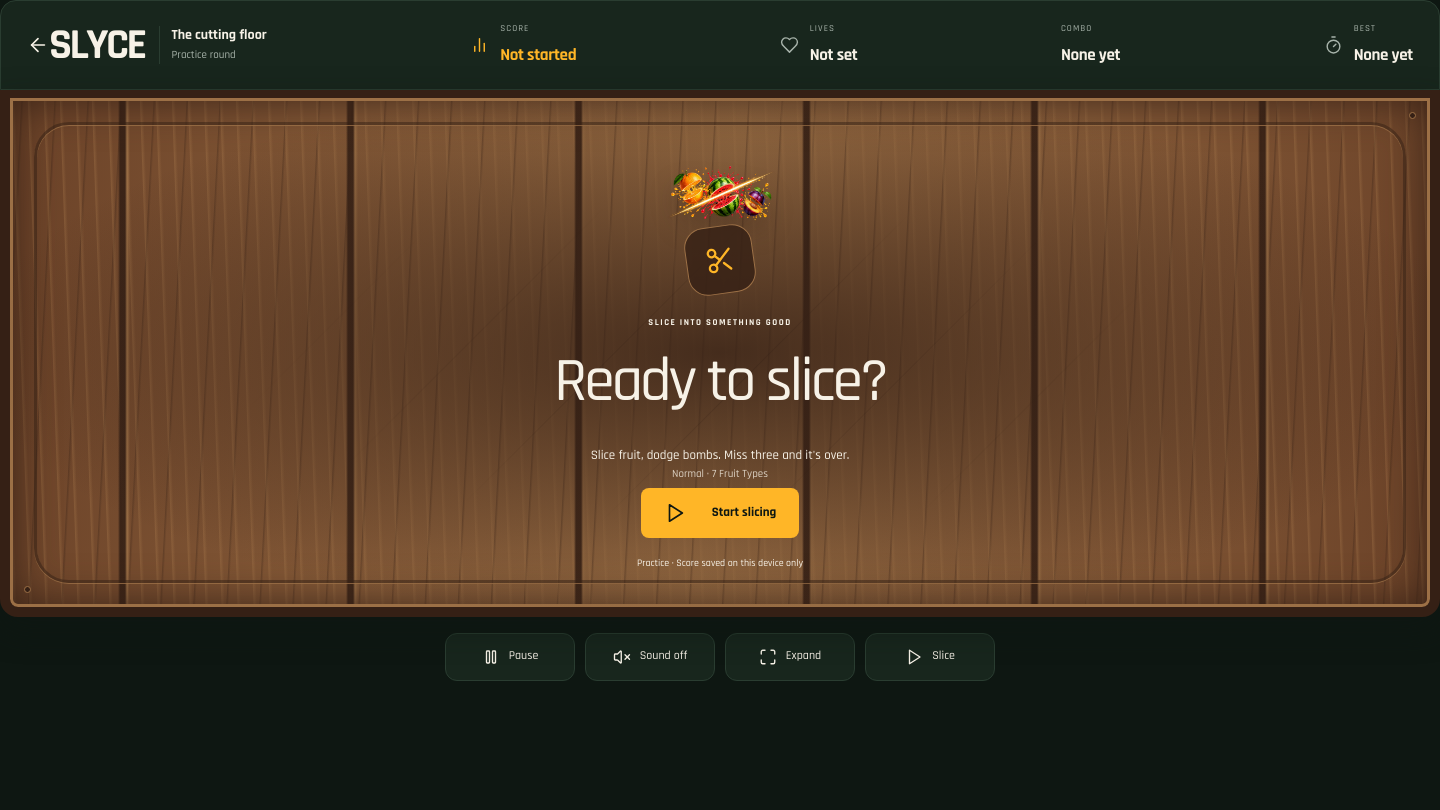
shows combos, game over and a device-local best, then restarts
The width and height of the screenshot is (1440, 810).
What coordinates should you click on to do the following:
click the button with aria-label "Start practice round"
I would click on:
 (720, 513)
Its box is [641,488,799,538].
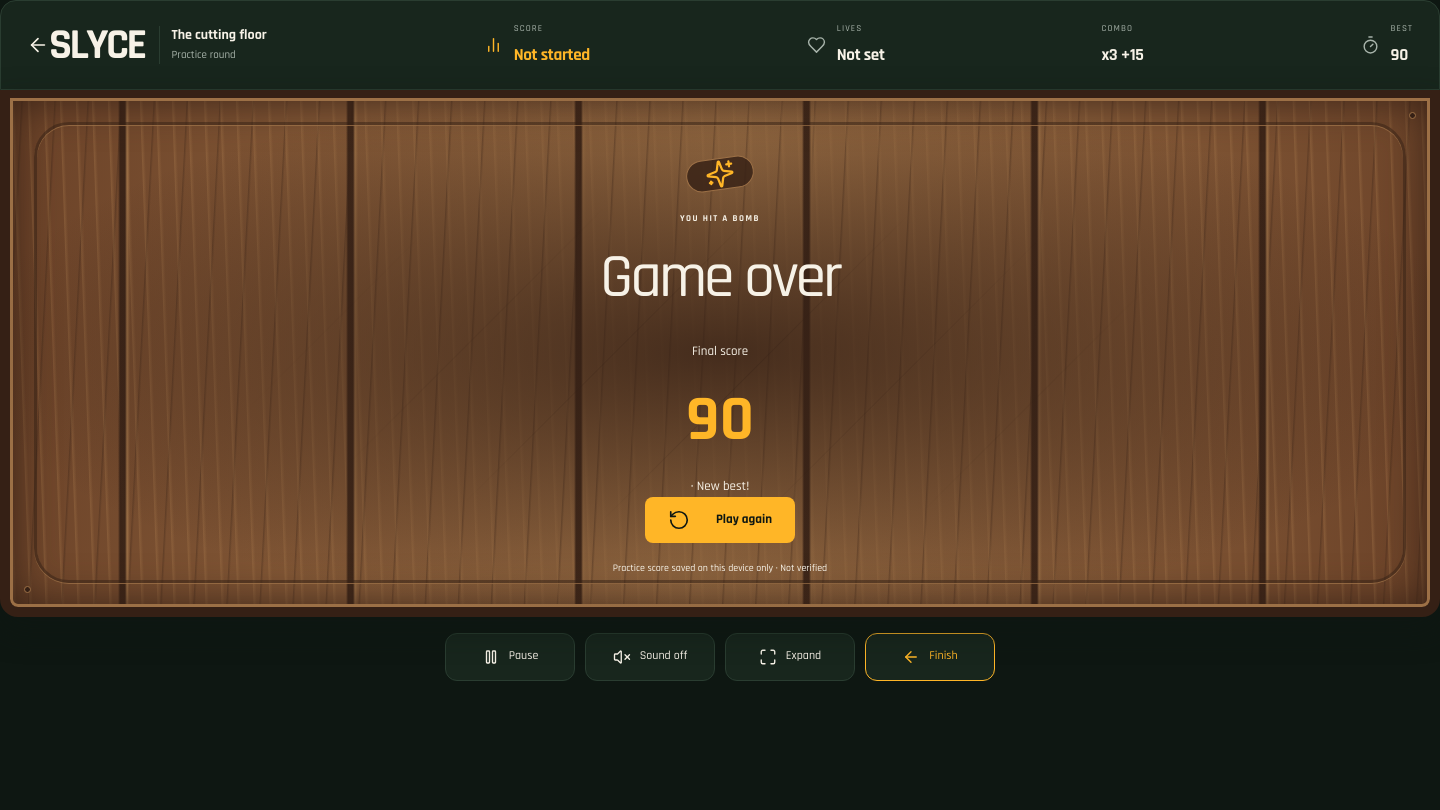
Expected: the text "x3 +15" is shown, [1102,42,1144,68]
Expected: the heading "Game over" is shown, [600,230,840,324]
Expected: the text "YOU HIT A BOMB" is shown, [680,212,760,226]
What coordinates should you click on to do the following:
click the button "Play again"
I would click on:
 (720, 520)
Its box is [645,497,795,543].
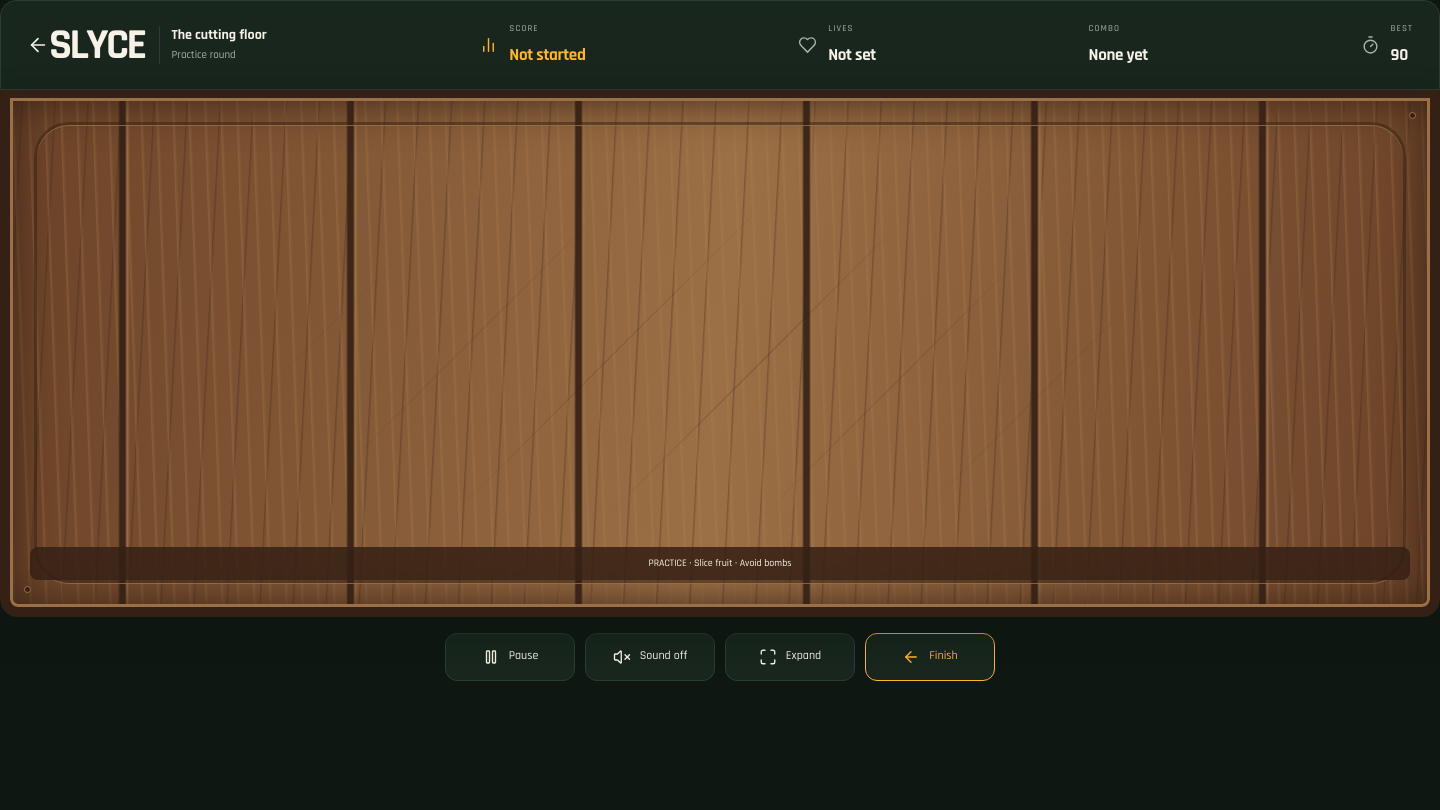
Expected: the heading "Game over" is gone
